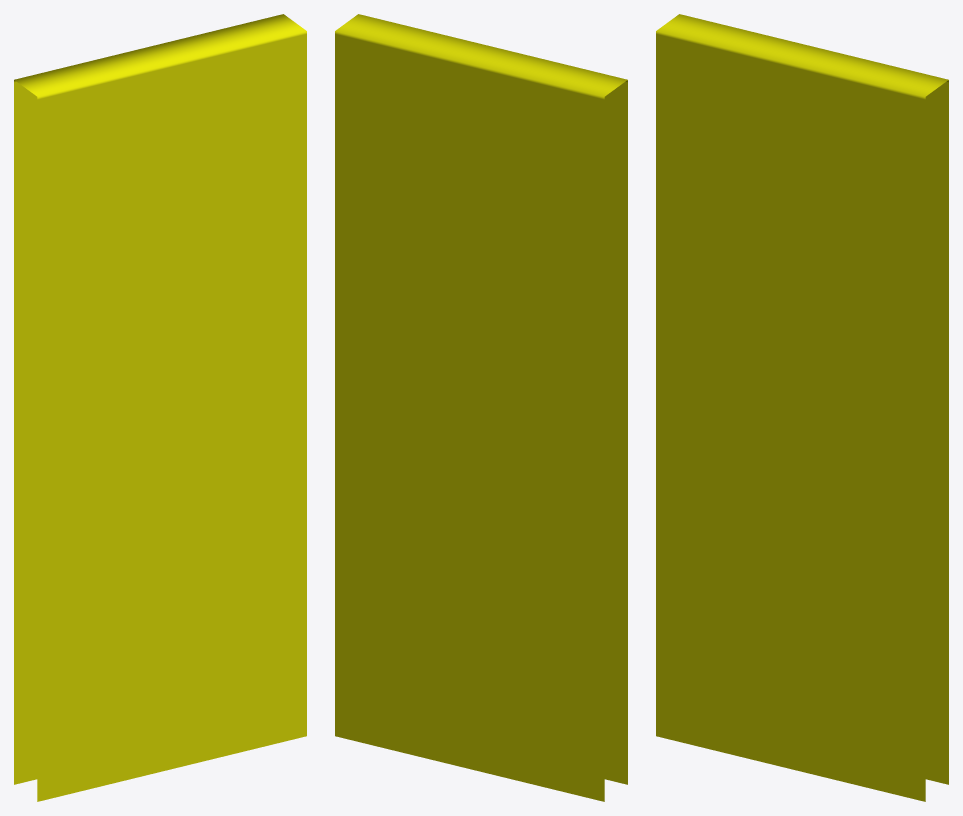
The model's file is Wall_Base.fbx.
The picture shows the model from 3 angles, left to right: view 1: azimuth 30°, elevation 25°; view 2: azimuth 150°, elevation 25°; view 3: azimuth 330°, elevation 25°; orthographic projection.
Visible parts, largest first — view 1: Wall_Base; view 2: Wall_Base; view 3: Wall_Base.
Part boxes in pixels (x1,y1,x2,y2): Wall_Base: (14, 14, 306, 801); Wall_Base: (335, 14, 627, 801); Wall_Base: (656, 14, 948, 801).
Size of the model in its own units: 100 by 250 by 15.
